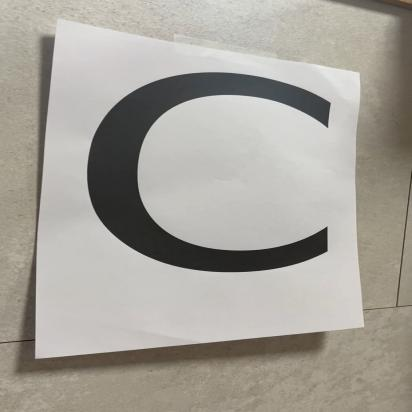seat: (66, 51, 363, 329)
